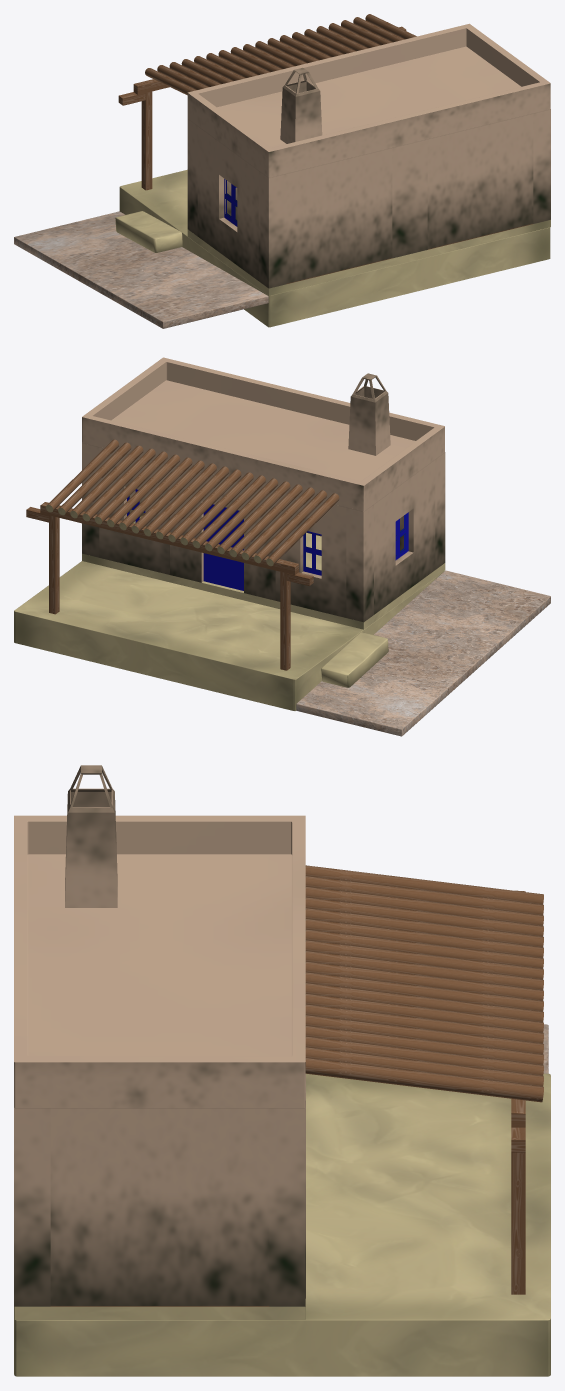
Rendered from HOME.fbx.
The picture shows the model from 3 angles, top to bottom: view 1: azimuth 30°, elevation 25°; view 2: azimuth 150°, elevation 25°; view 3: azimuth 270°, elevation 25°; orthographic projection. The views are drawn at different scales.
Parts seen in each view (by area): view 1: Home; view 2: Home; view 3: Home.
Part boxes in pixels (left/top/right/bottom): Home: left=14, top=14, right=550, bottom=328; Home: left=14, top=357, right=550, bottom=736; Home: left=14, top=765, right=550, bottom=1376.
Size of the model in its own units: 1100 by 617 by 736.
1 material, 1 textured.
